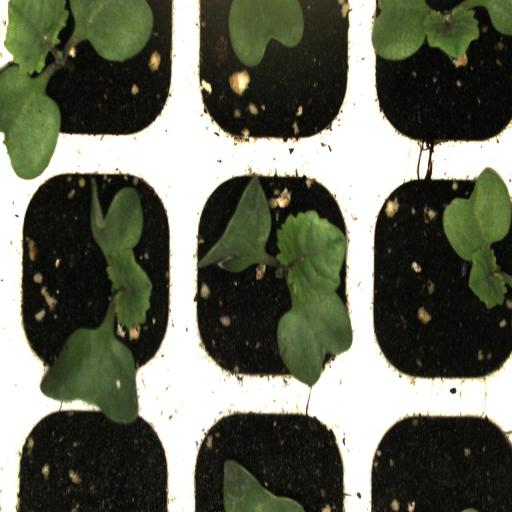Folha: (226, 0, 311, 67), (223, 460, 304, 512)
Germinacao: (4, 160, 180, 396), (182, 171, 366, 388), (364, 165, 512, 390), (0, 0, 181, 155), (364, 0, 512, 164)
